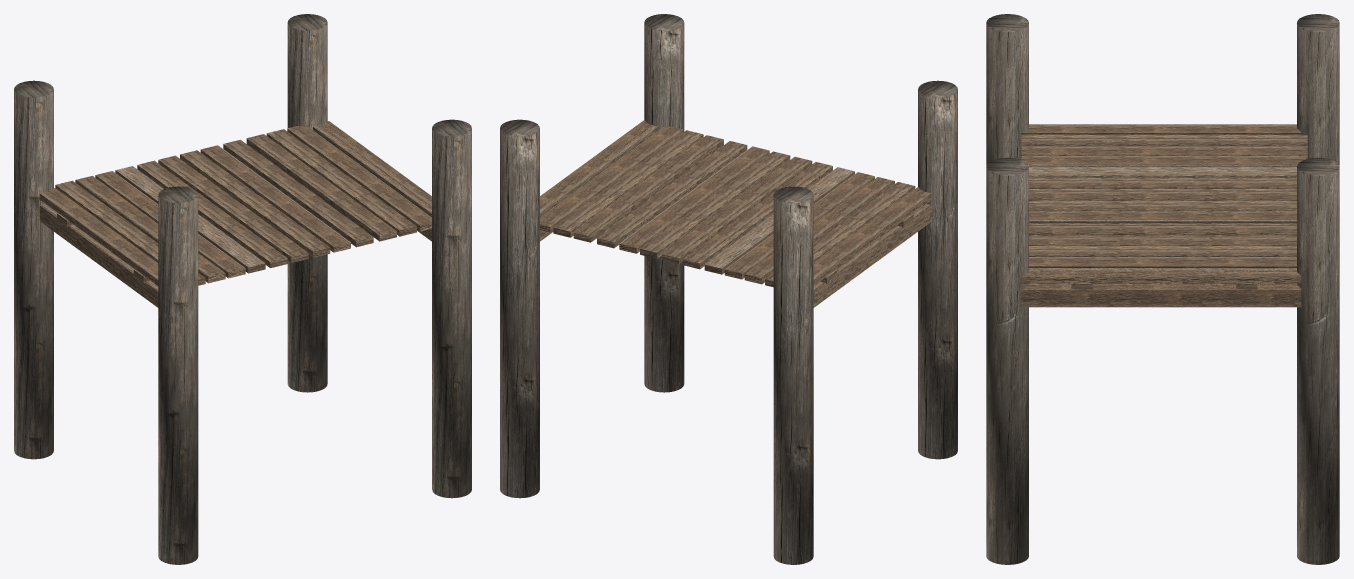
Rendered from plataformacomp.fbx.
The picture shows the model from 3 angles, left to right: view 1: azimuth 30°, elevation 25°; view 2: azimuth 150°, elevation 25°; view 3: azimuth 270°, elevation 25°; orthographic projection. The views are drawn at different scales.
Parts seen in each view (by area): view 1: plat completa; view 2: plat completa; view 3: plat completa.
Boxes of the visible parts, <box> form: plat completa: <box>14,14,471,564</box>; plat completa: <box>500,14,957,564</box>; plat completa: <box>986,14,1339,564</box>.
Size of the model in its own units: 535 by 600 by 494.
Materials: 2 (2 with a texture image).
